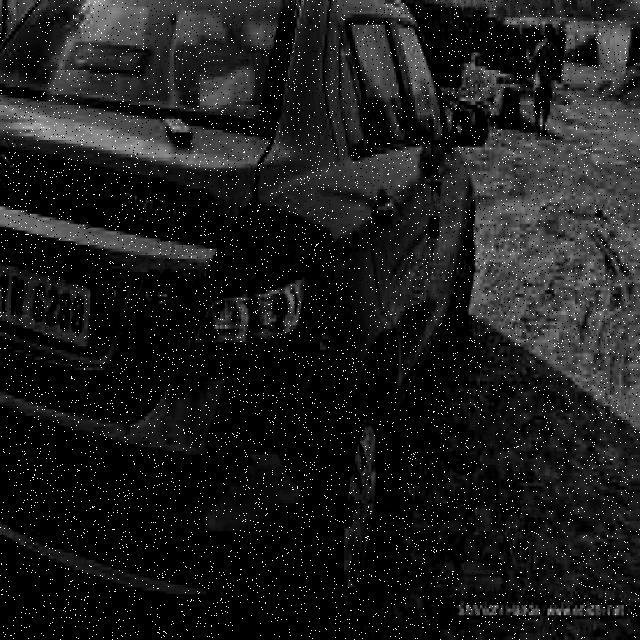car damage: (196, 370, 317, 543)
